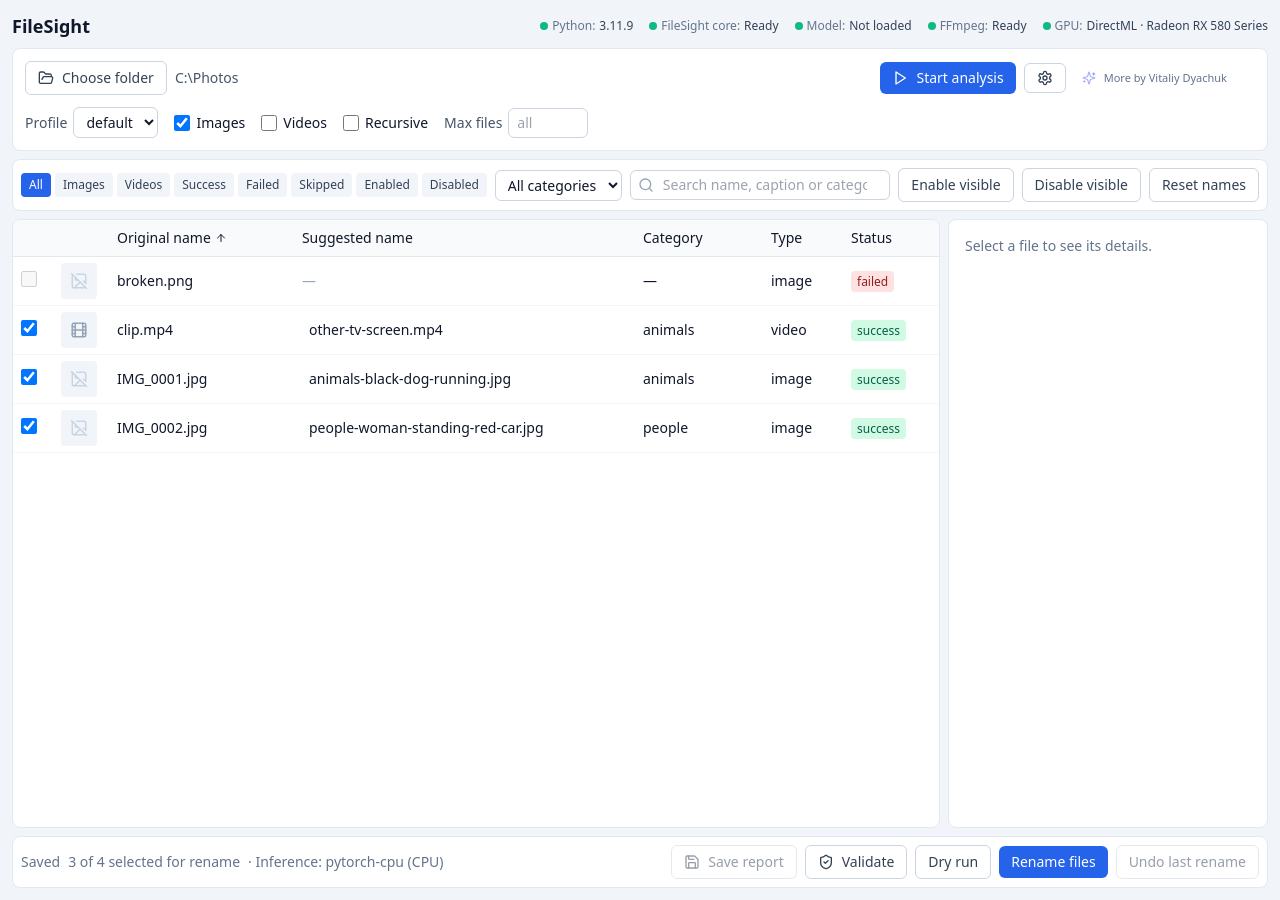
Test: filters and search › explains an empty result set
The width and height of the screenshot is (1280, 900).
In the search field named "search files": (760, 185) [630,170,890,200], type "nothing-here"
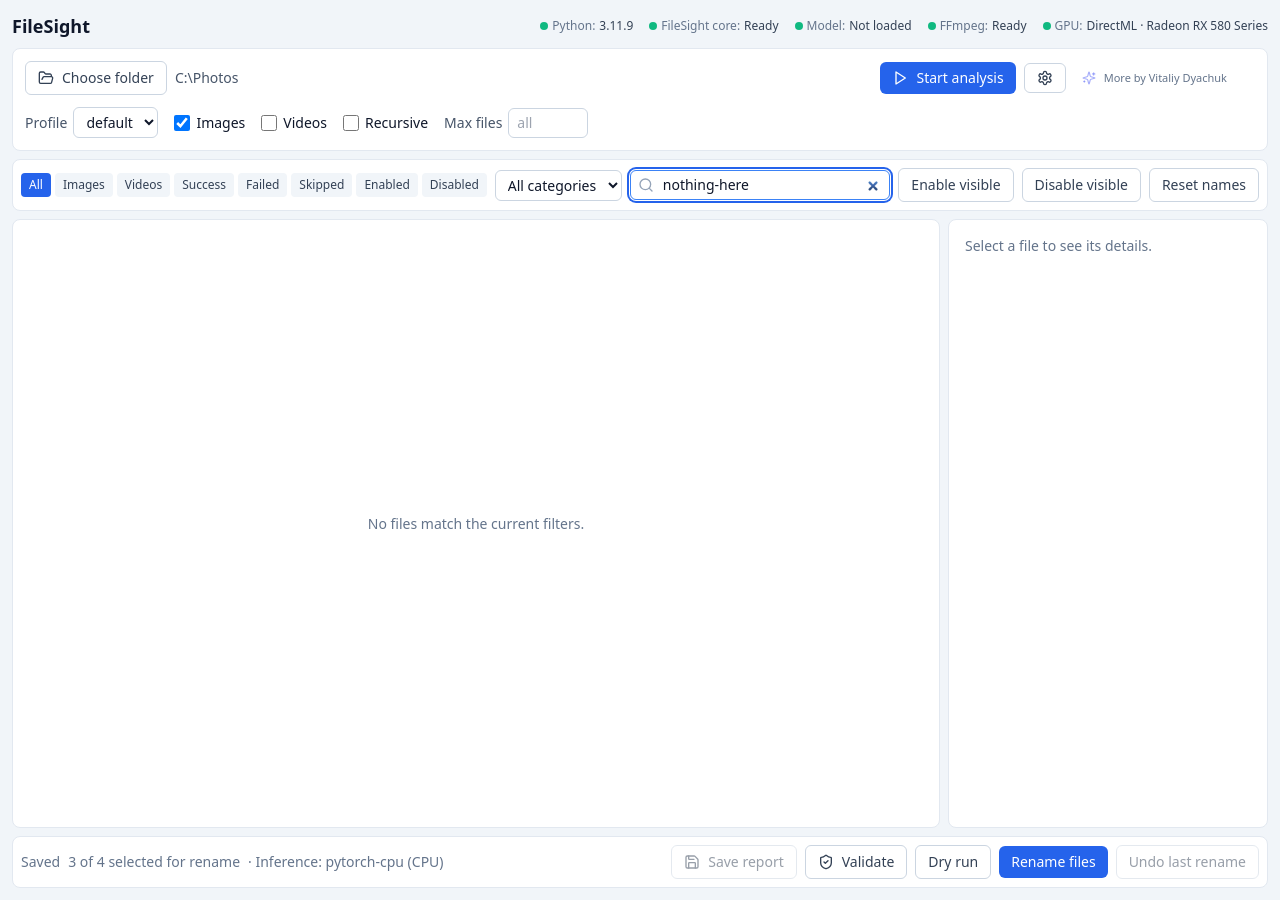
Expected: the text "No files match the current filters." is shown, [12,219,940,828]
